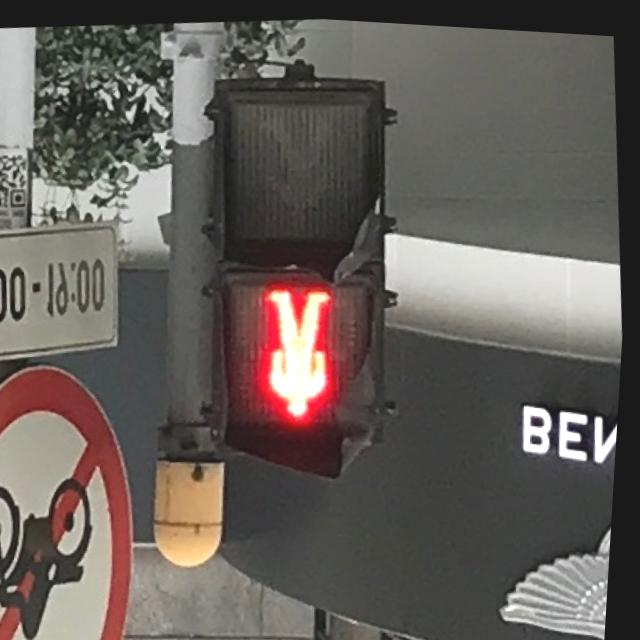red_light: (215, 261, 386, 441)
